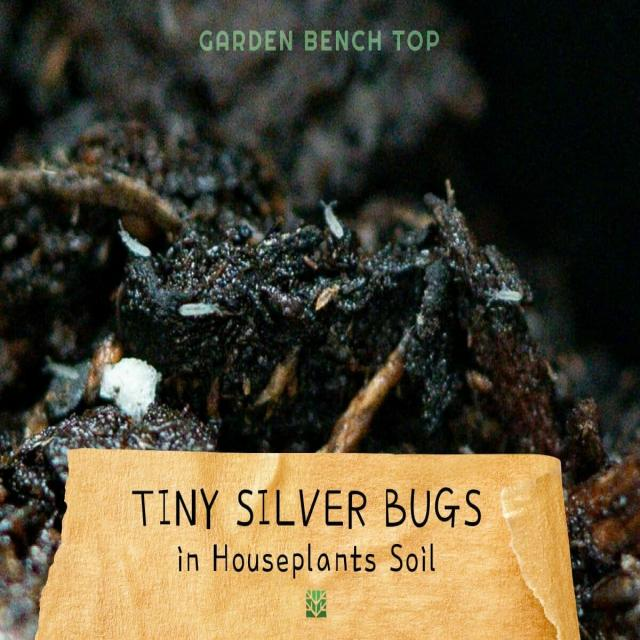Thrip-Larva-: (177, 298, 225, 326)
